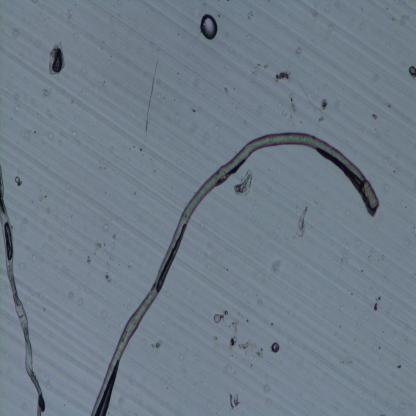Air bubble: (200, 12, 220, 43)
Background material: (224, 336, 264, 360), (46, 35, 66, 79), (229, 169, 255, 195), (296, 204, 310, 242), (209, 309, 233, 325), (317, 96, 330, 124), (227, 388, 242, 410), (273, 72, 293, 86), (12, 172, 26, 186), (269, 341, 283, 355), (406, 62, 416, 81)
Cellulose filter fibre: (0, 158, 49, 414)
Microfibre: (91, 132, 380, 414)
